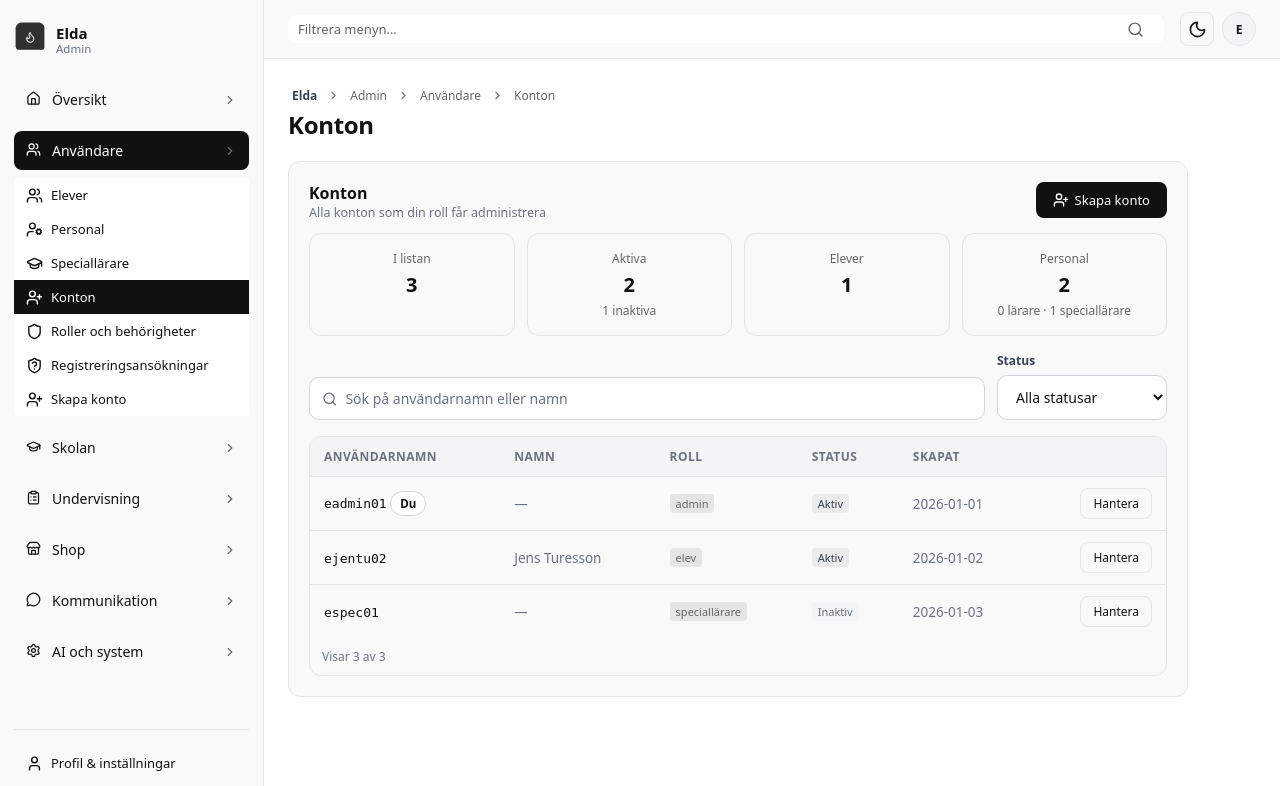
kontolistan › visar ett enskilt konto med uppgifter från backend
Click the button "Hantera" in the row of "ejentu02" at (1116, 558), box [1080,542,1152,573]
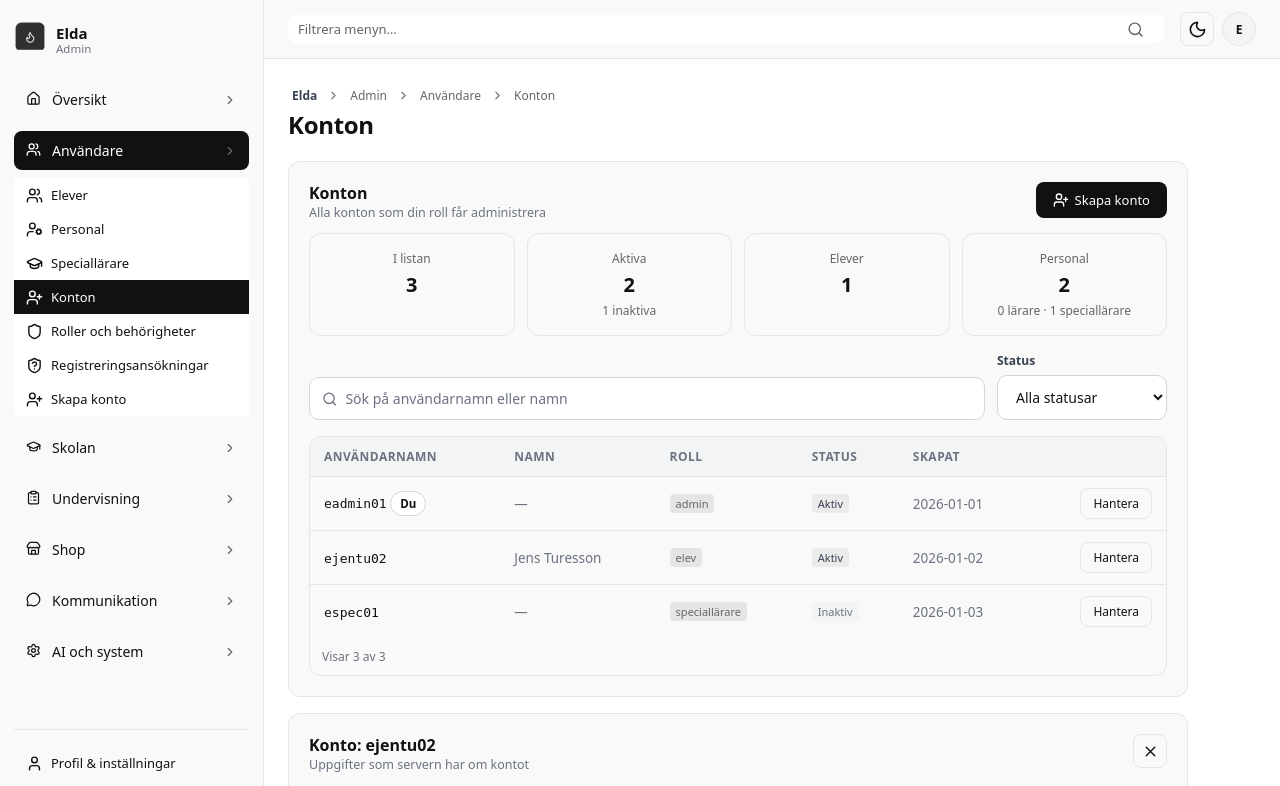
Result: the heading "Konto: ejentu02" is shown at [309,734,436,756]
Result: the button named "stäng kontouppgifterna" is shown at [1133,734,1167,768]
